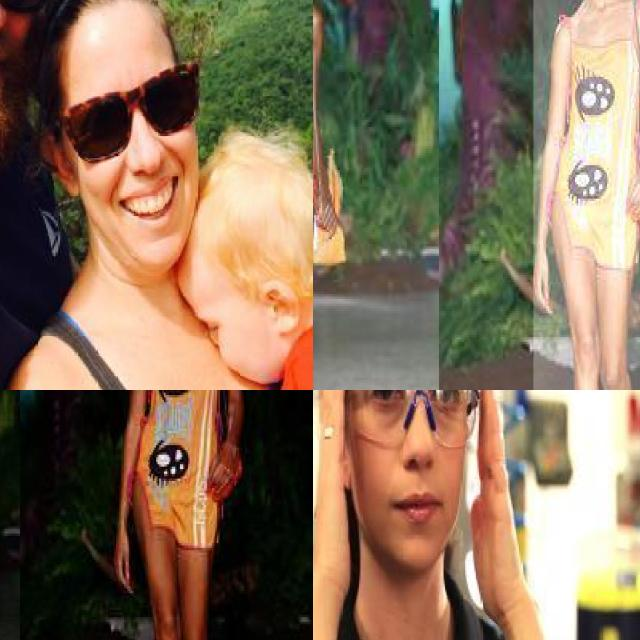No_Ear-Protection: (258, 273, 304, 344)
face_nomask: (79, 70, 193, 230), (355, 390, 462, 542)
glasses: (62, 58, 200, 164), (342, 390, 484, 454)
hand_noglove: (458, 390, 540, 637), (313, 390, 358, 594), (203, 433, 243, 500), (106, 538, 138, 591), (313, 185, 344, 238), (528, 249, 553, 311), (625, 161, 640, 216)
head_nohelmet: (178, 133, 302, 240), (22, 0, 171, 58)
person: (0, 0, 287, 390), (313, 390, 569, 640), (533, 0, 640, 390), (114, 390, 248, 640)
